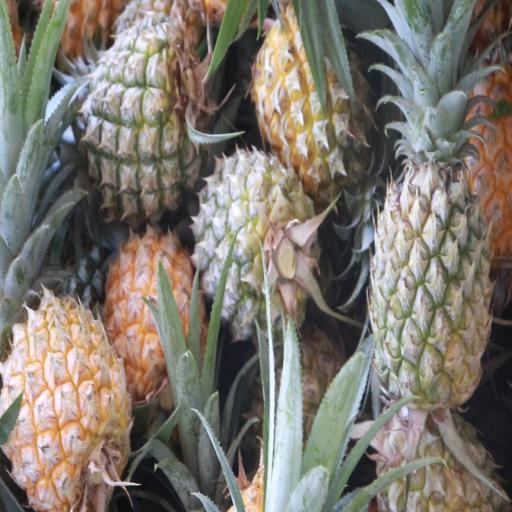------------------------------: (84, 28, 209, 219), (256, 8, 378, 196), (196, 147, 314, 331)
Pineapple - v8 v1: (2, 299, 132, 501), (104, 231, 210, 413)
